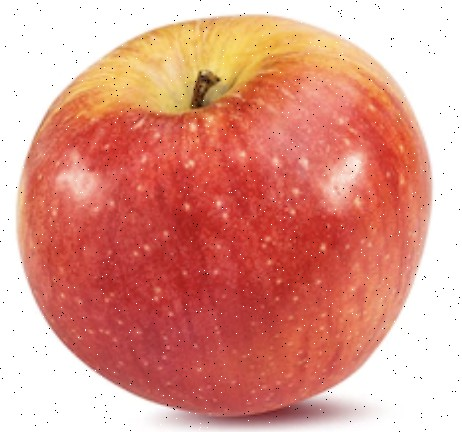fresh_apple: (23, 14, 435, 420)
